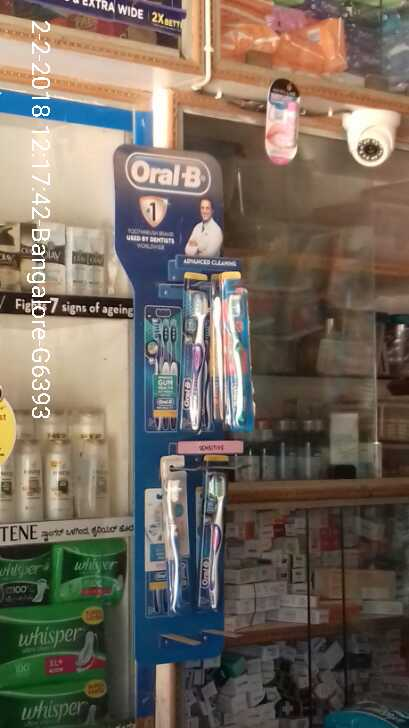beauty: (80, 432, 115, 520), (45, 435, 78, 525), (12, 439, 46, 525), (68, 222, 90, 302), (89, 223, 107, 299)
pharmacy: (2, 610, 97, 684), (193, 452, 230, 611), (180, 267, 214, 432), (220, 269, 254, 431), (156, 454, 190, 614), (1, 684, 114, 726), (52, 539, 126, 603), (1, 549, 53, 608)
